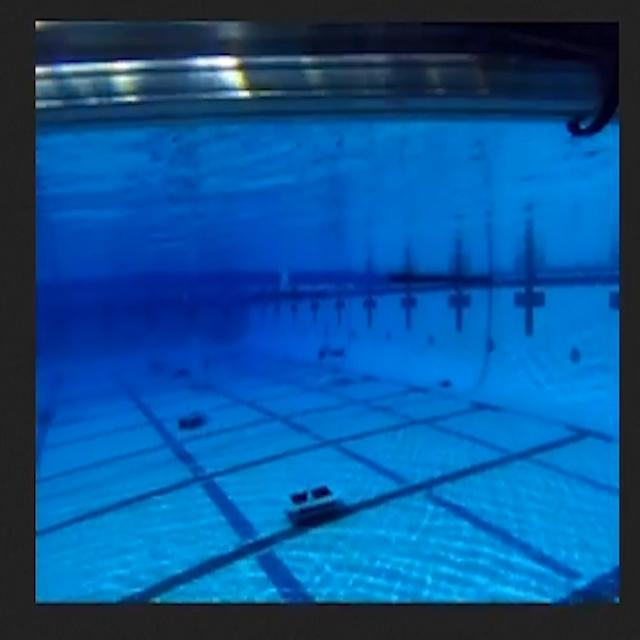Bin: (280, 479, 345, 514)
